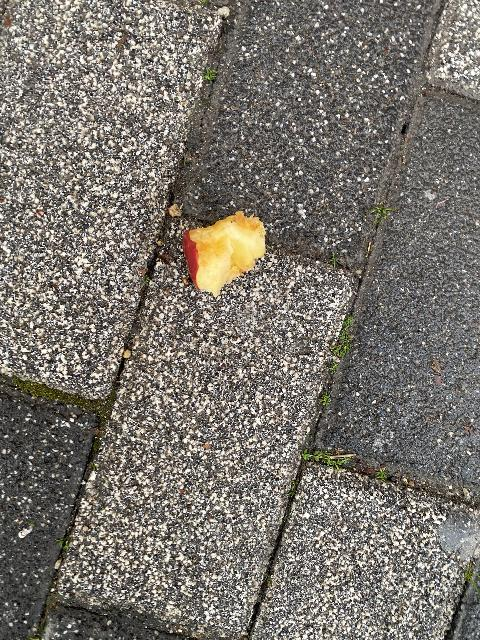Organik: (175, 203, 284, 305)
